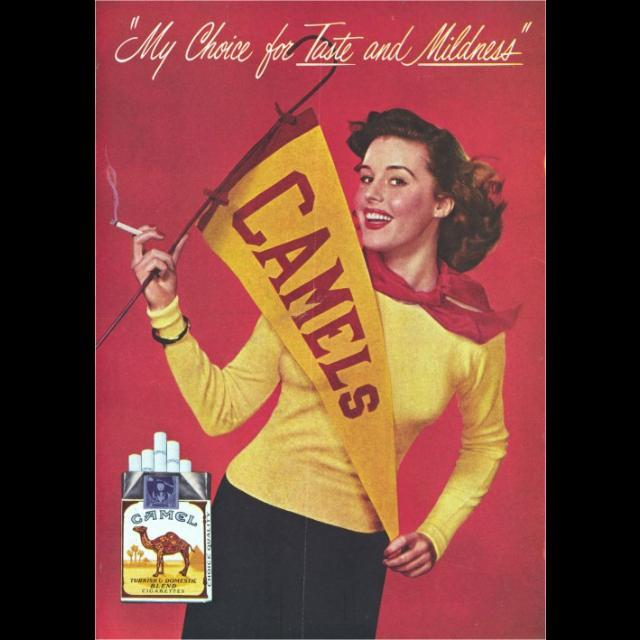rokok: (109, 216, 149, 240)
